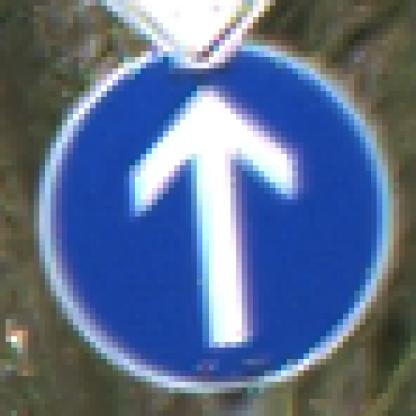AheadOnly: (41, 35, 384, 383)
